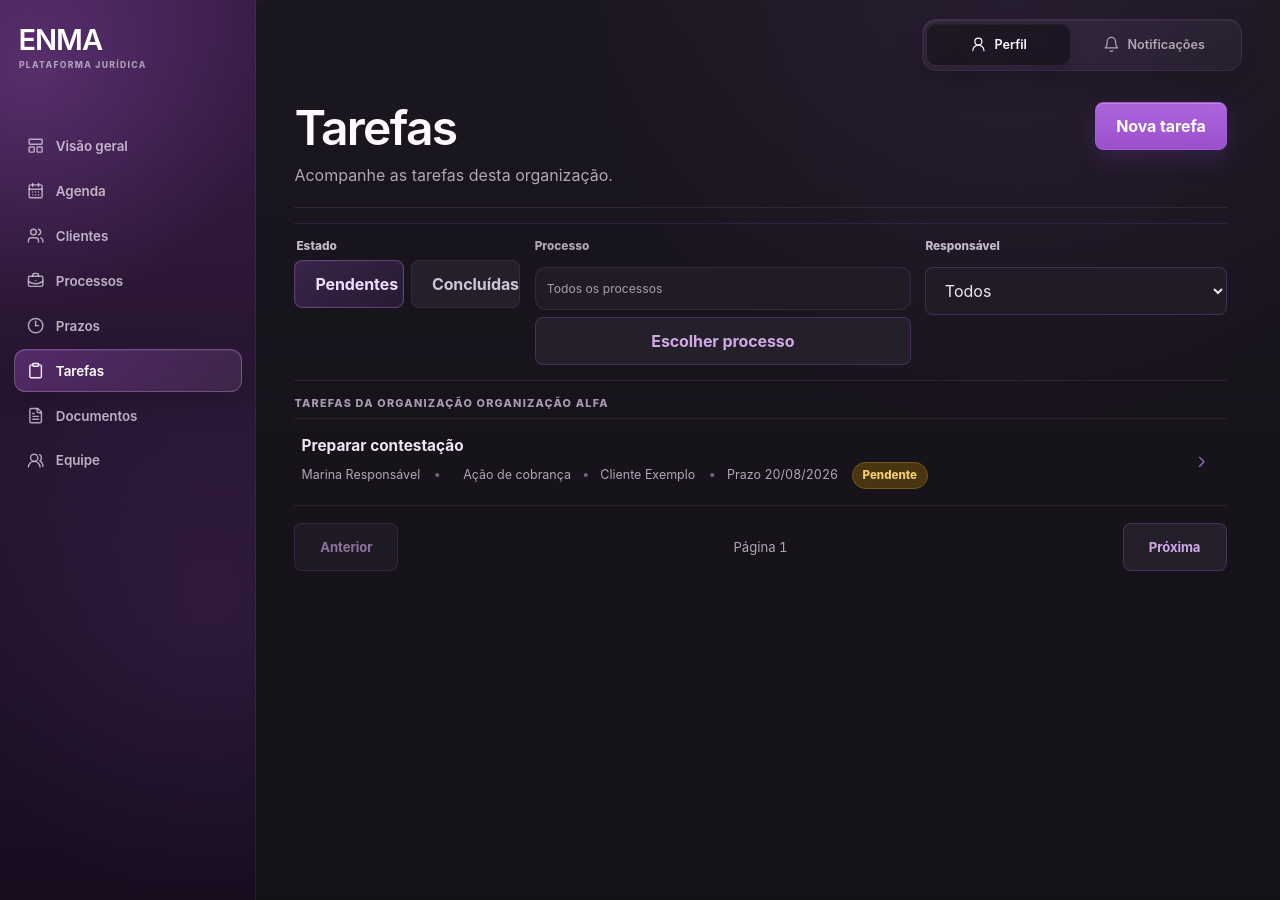
Test: Tasks D1 flow › TaskPagination_UsesHasNextWithoutTotalCount
Expected: the text "Preparar contestação" is shown, left=302, top=436, right=464, bottom=455
Expected: the button with aria-label "Página anterior de tarefas" is disabled, left=294, top=523, right=398, bottom=571
Click the button with aria-label "Próxima página de tarefas".
click(1175, 547)  # box left=1123, top=523, right=1227, bottom=571
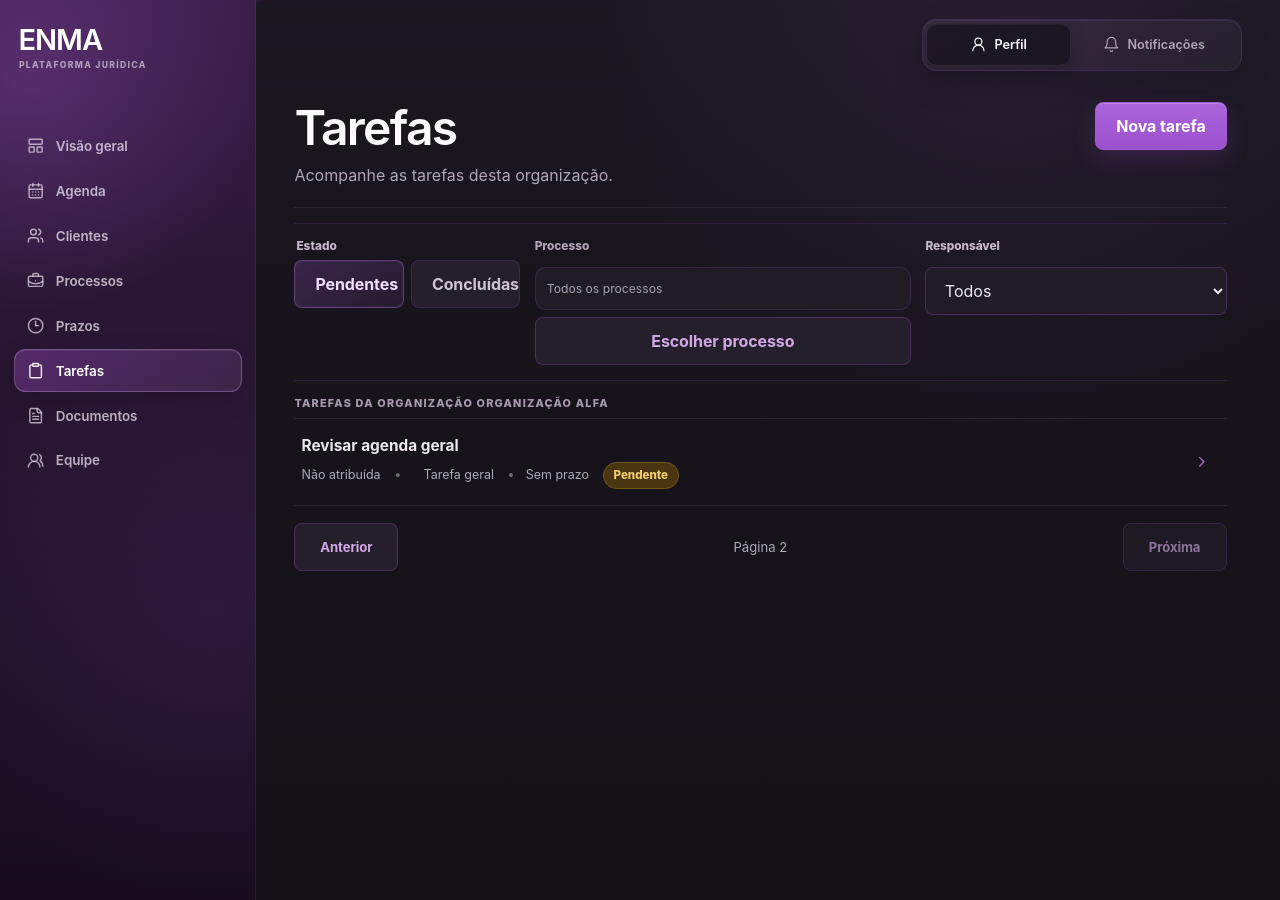
Now the text "Revisar agenda geral" is shown, box left=302, top=436, right=459, bottom=455
Now the button with aria-label "Próxima página de tarefas" is disabled, box left=1123, top=523, right=1227, bottom=571
Click the button with aria-label "Página anterior de tarefas".
click(346, 547)  # box left=294, top=523, right=398, bottom=571
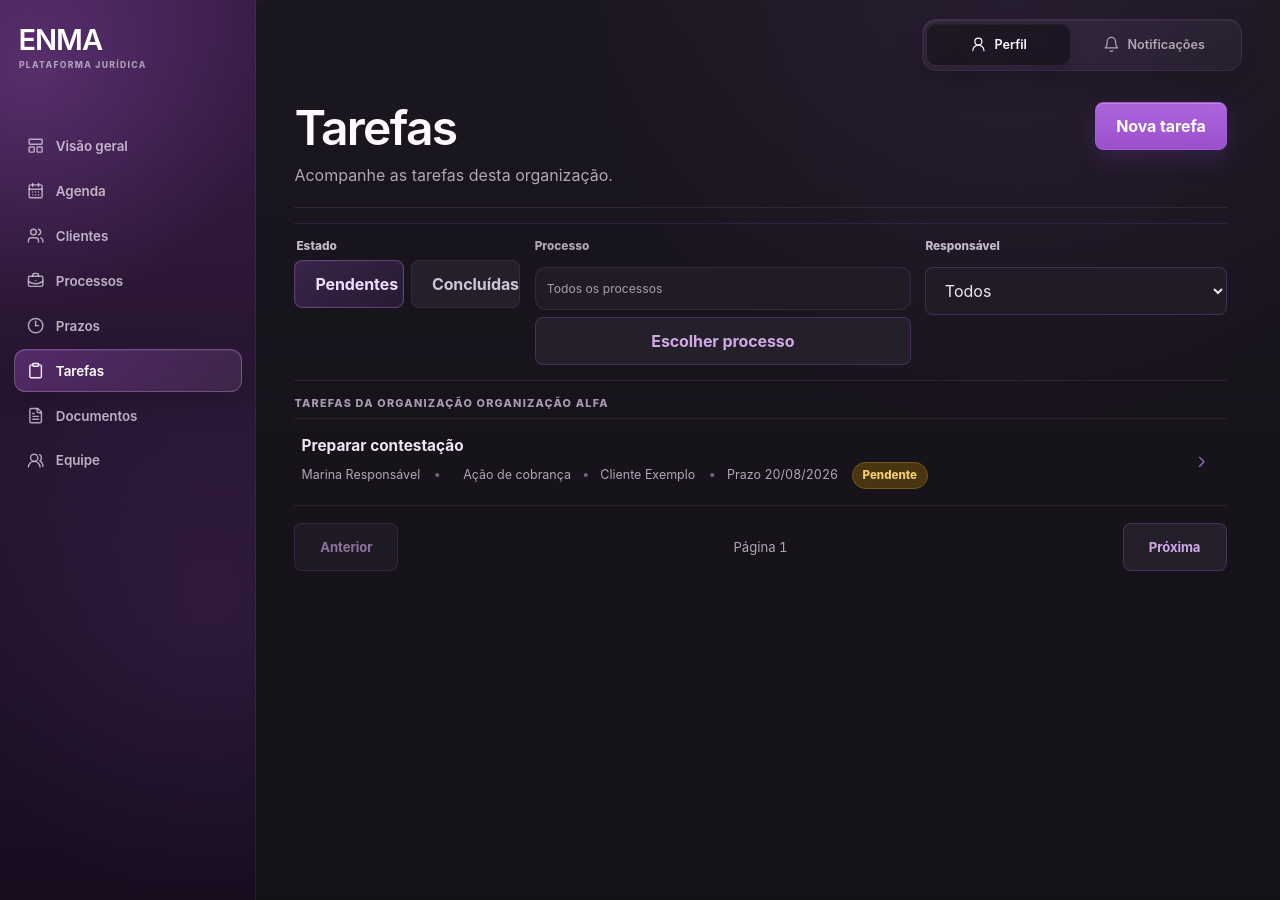
Now the text "Preparar contestação" is shown, box left=302, top=436, right=464, bottom=455
